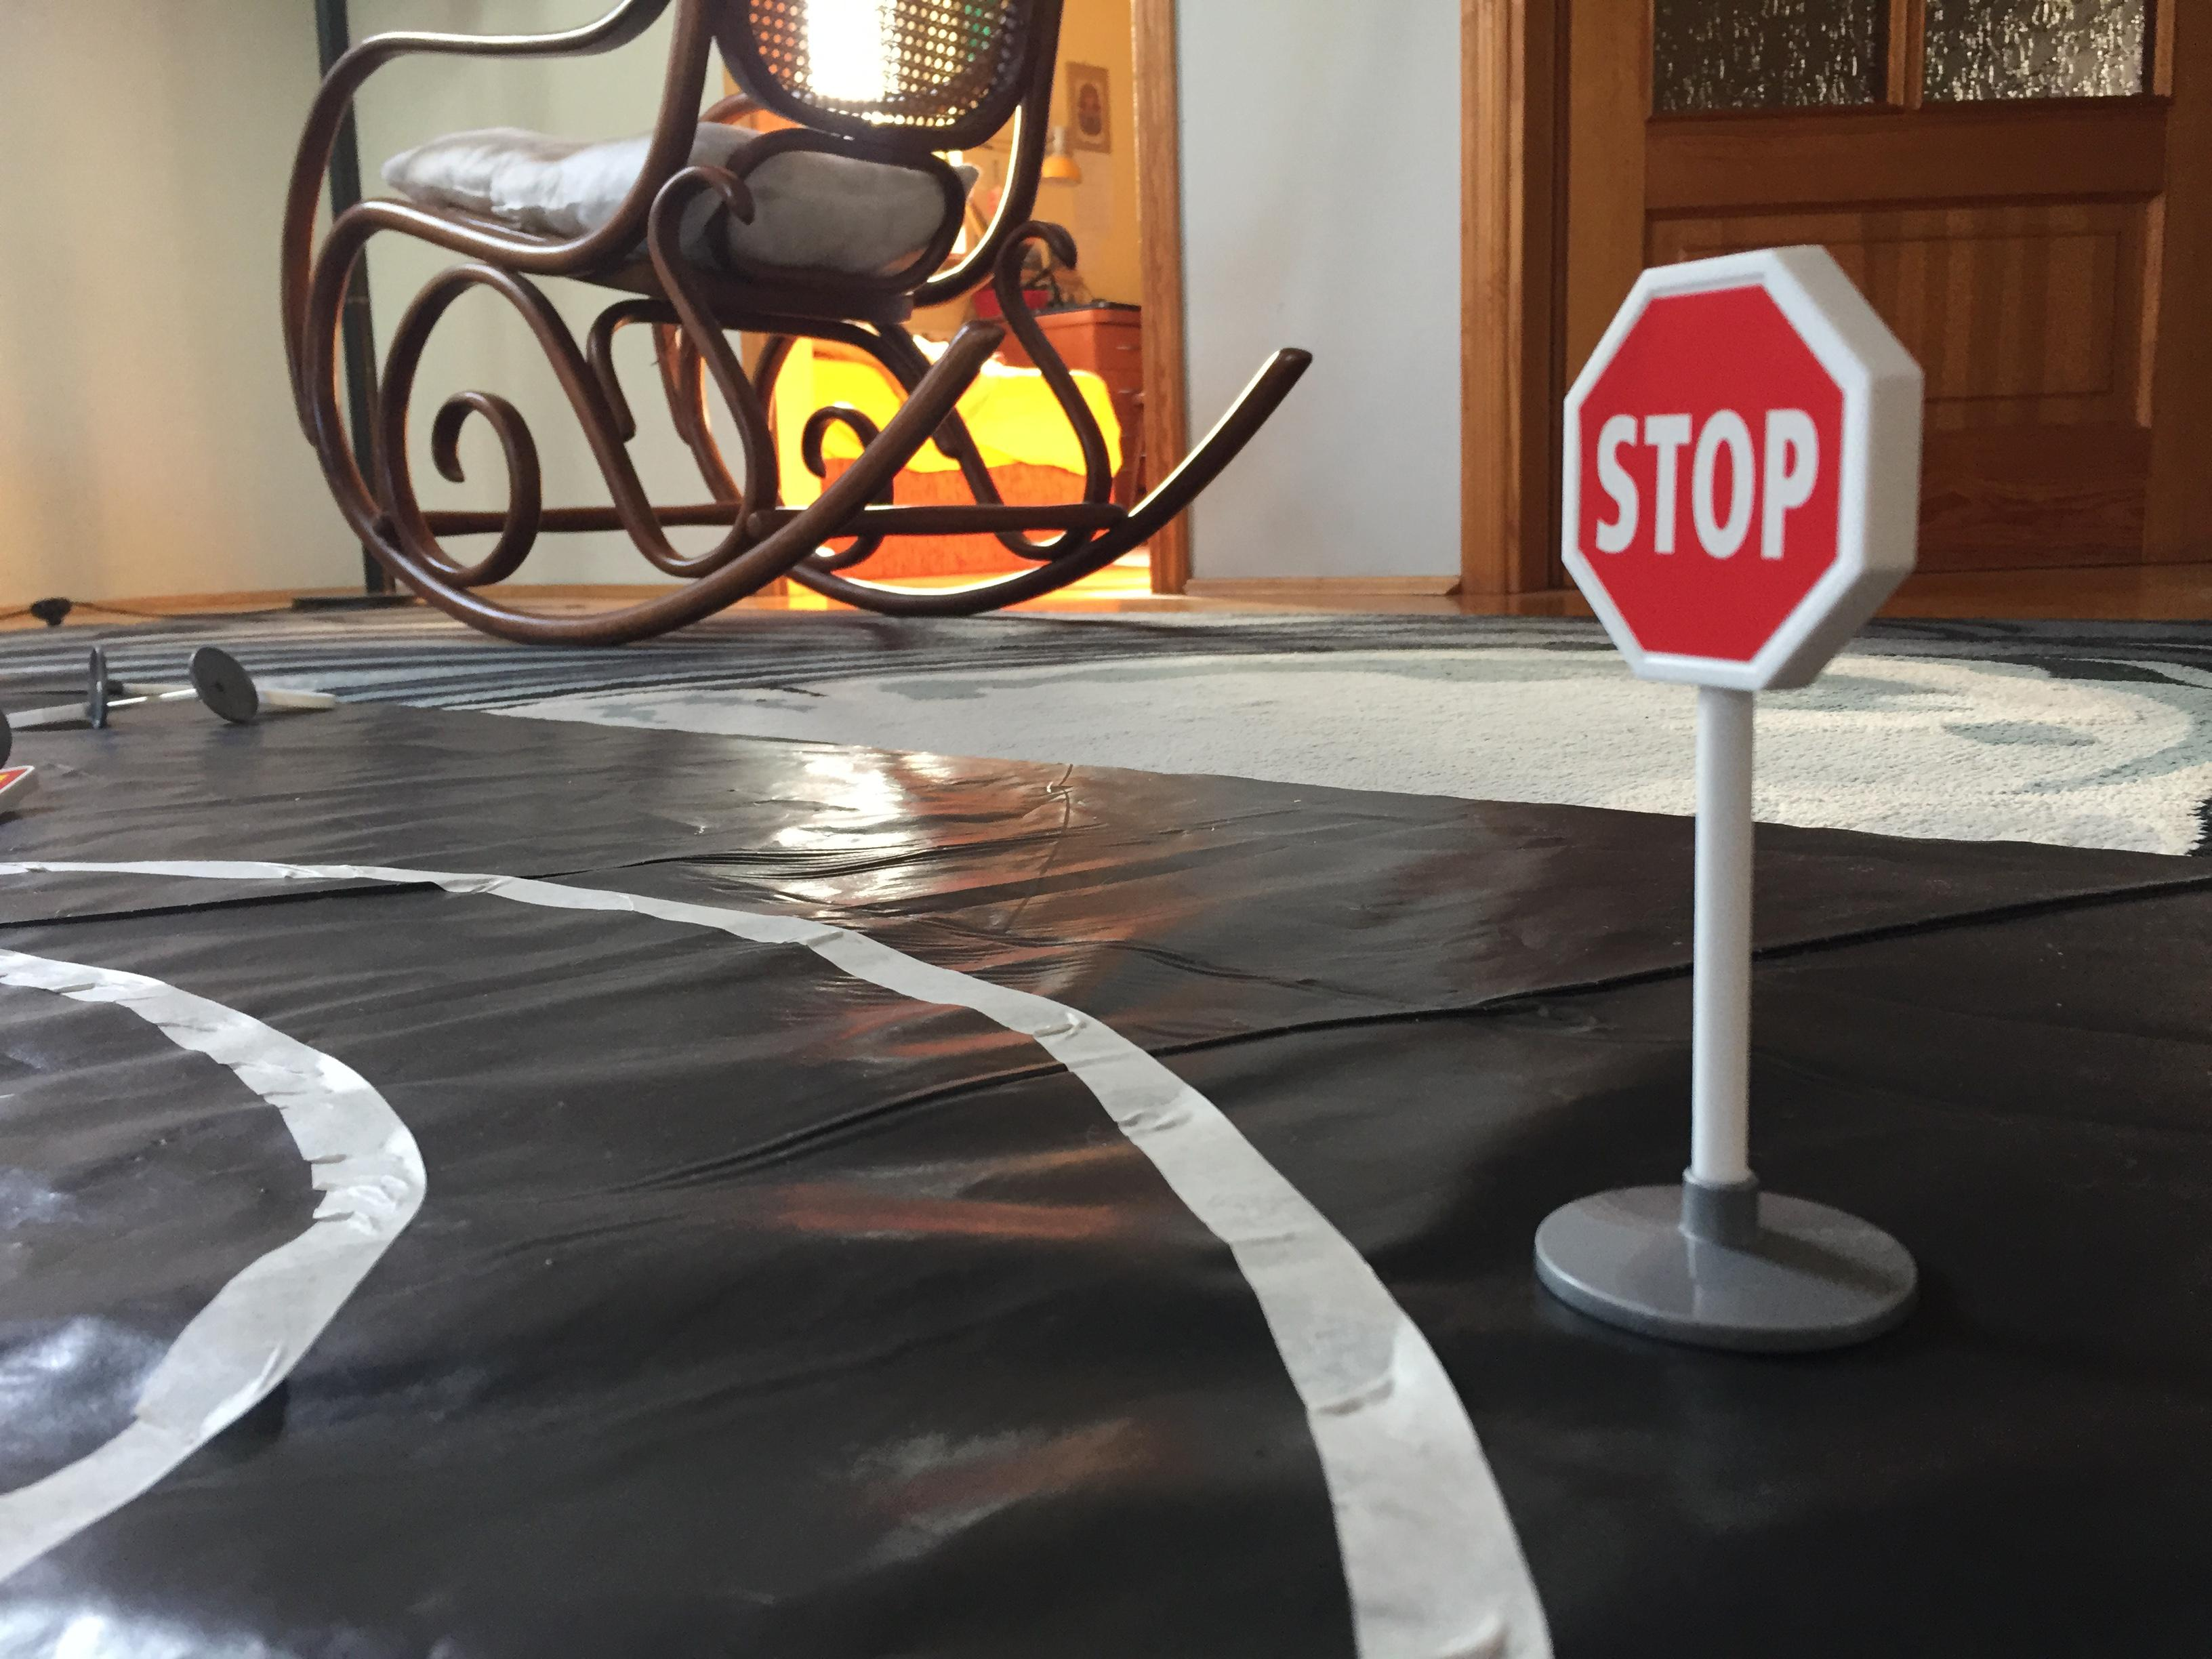stop: (1550, 232, 1944, 688)
